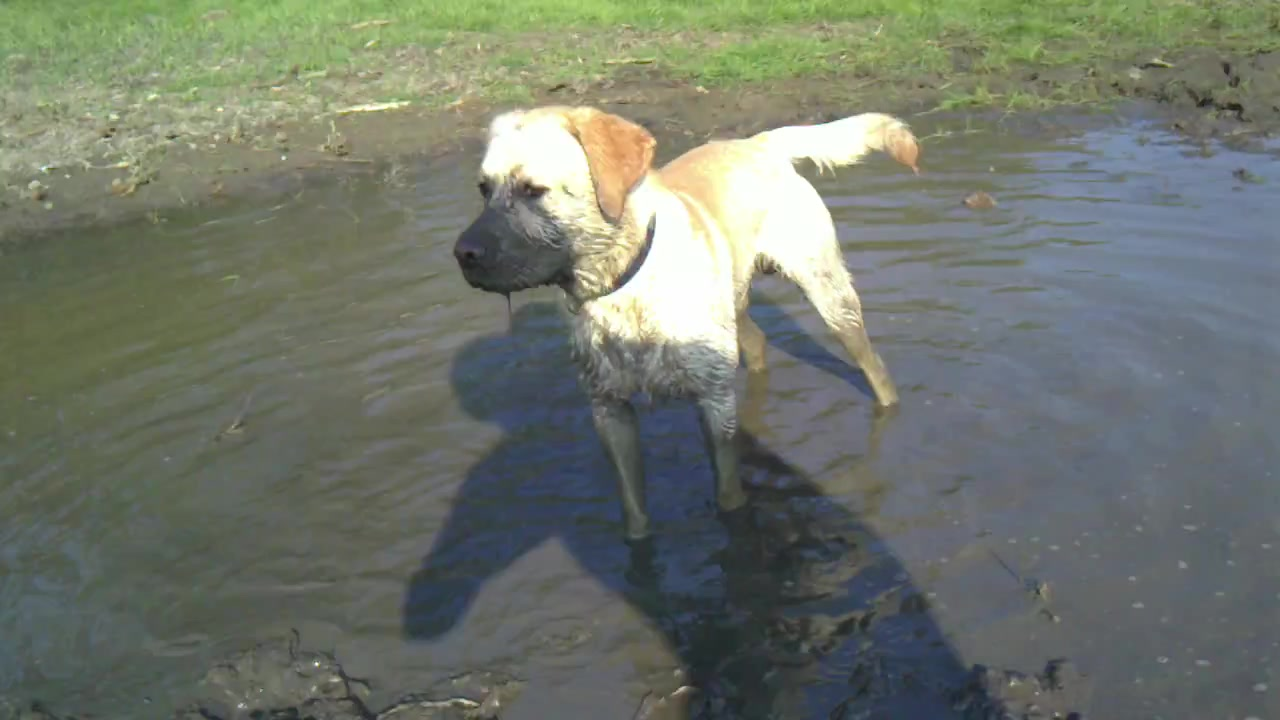dog: (451, 101, 926, 543)
